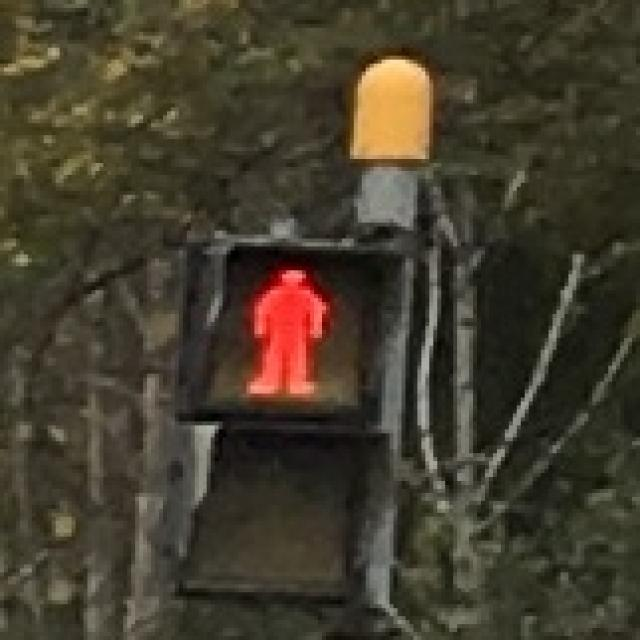red-crossing: (213, 248, 352, 403)
